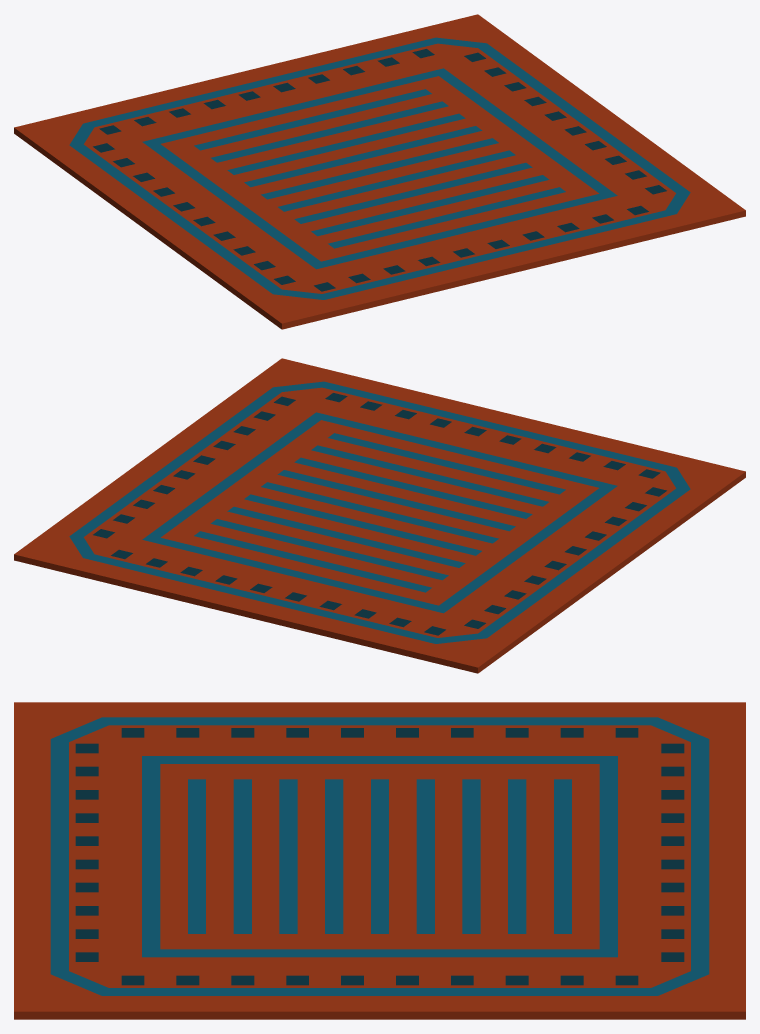
The model's file is Tile_1-3.fbx.
3 renders of one model, top to bottom at view 1: azimuth 30°, elevation 25°; view 2: azimuth 150°, elevation 25°; view 3: azimuth 270°, elevation 25°, orthographic. The views are drawn at different scales.
Parts seen in each view (by area): view 1: Tile_1-3; view 2: Tile_1-3; view 3: Tile_1-3.
Boxes of the visible parts, <box> form: Tile_1-3: <box>14,14,745,329</box>; Tile_1-3: <box>14,358,745,673</box>; Tile_1-3: <box>14,702,745,1019</box>.
Bounding box in the file's own units: 4 × 4 × 0.051.
